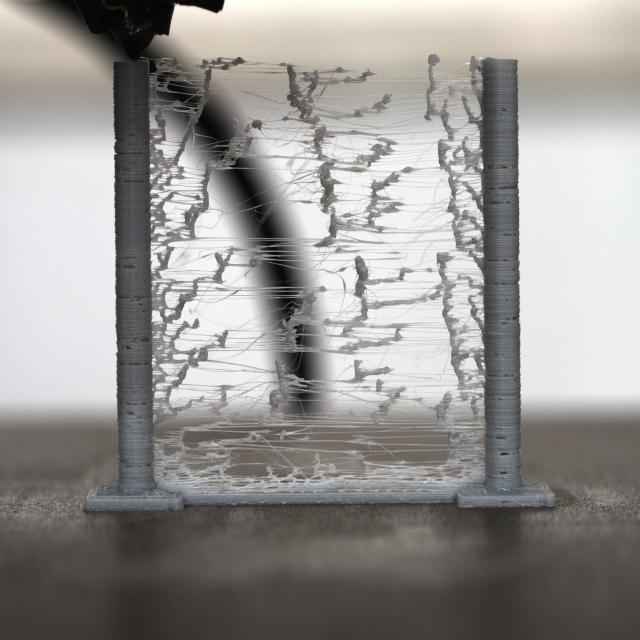Warping: (151, 56, 484, 492)
